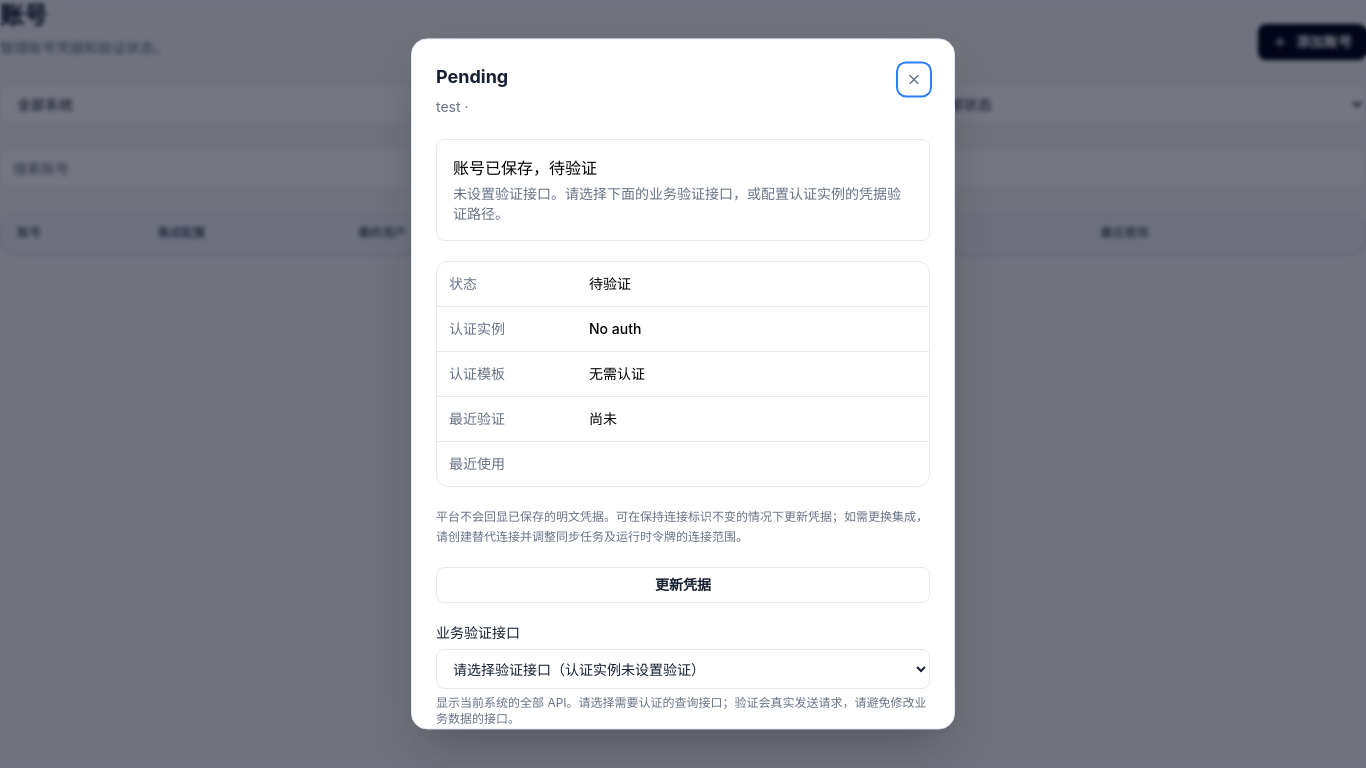
Test: keeps verification errors and successful results in the account dialog
Select "Current user · GET /me" in the dropdown labelled "业务验证接口 显示当前系统的全部 API。请选择需要认证的查询接口；验证会真实发送请求，请避免修改业务数据的接口。" at (683, 669), box [436,649,930,689]
(page scrolled)
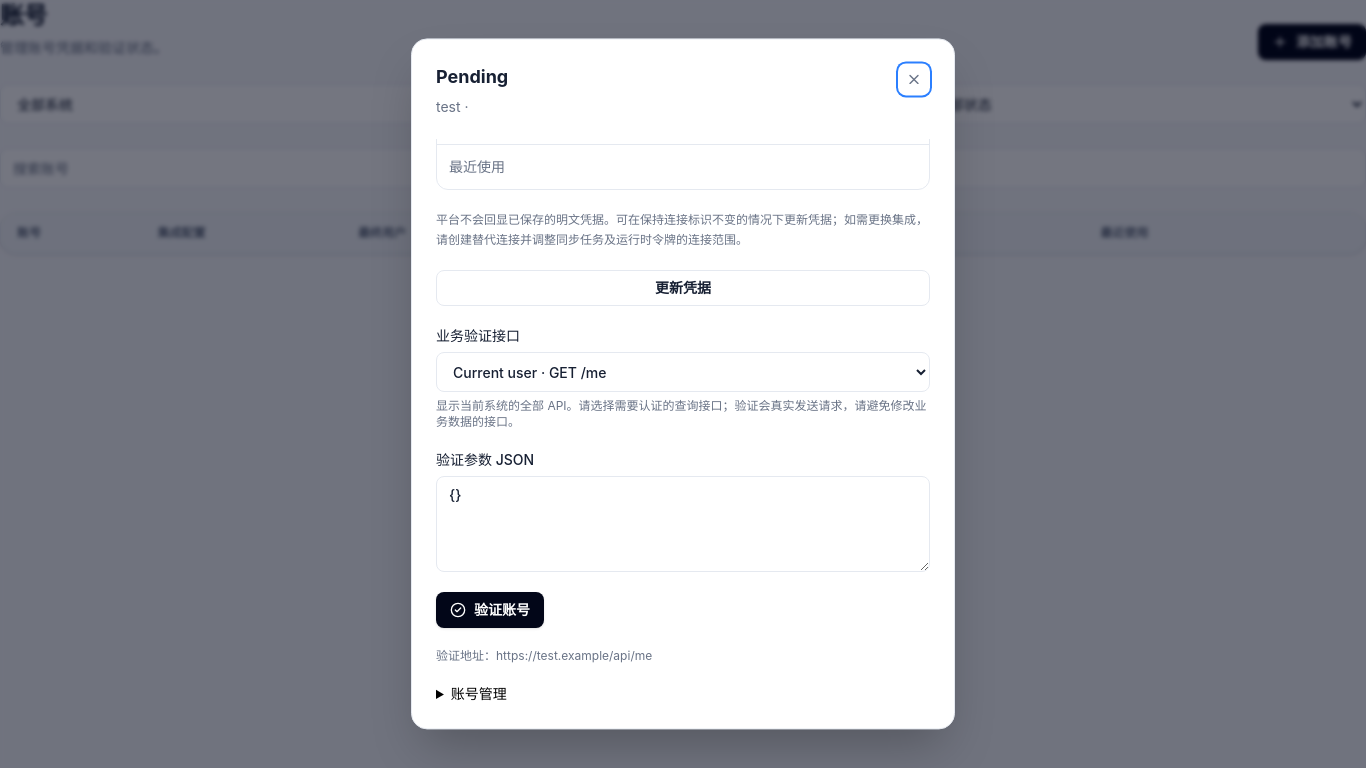
Click the button "验证账号" at (490, 610), box [436,592,544,628]
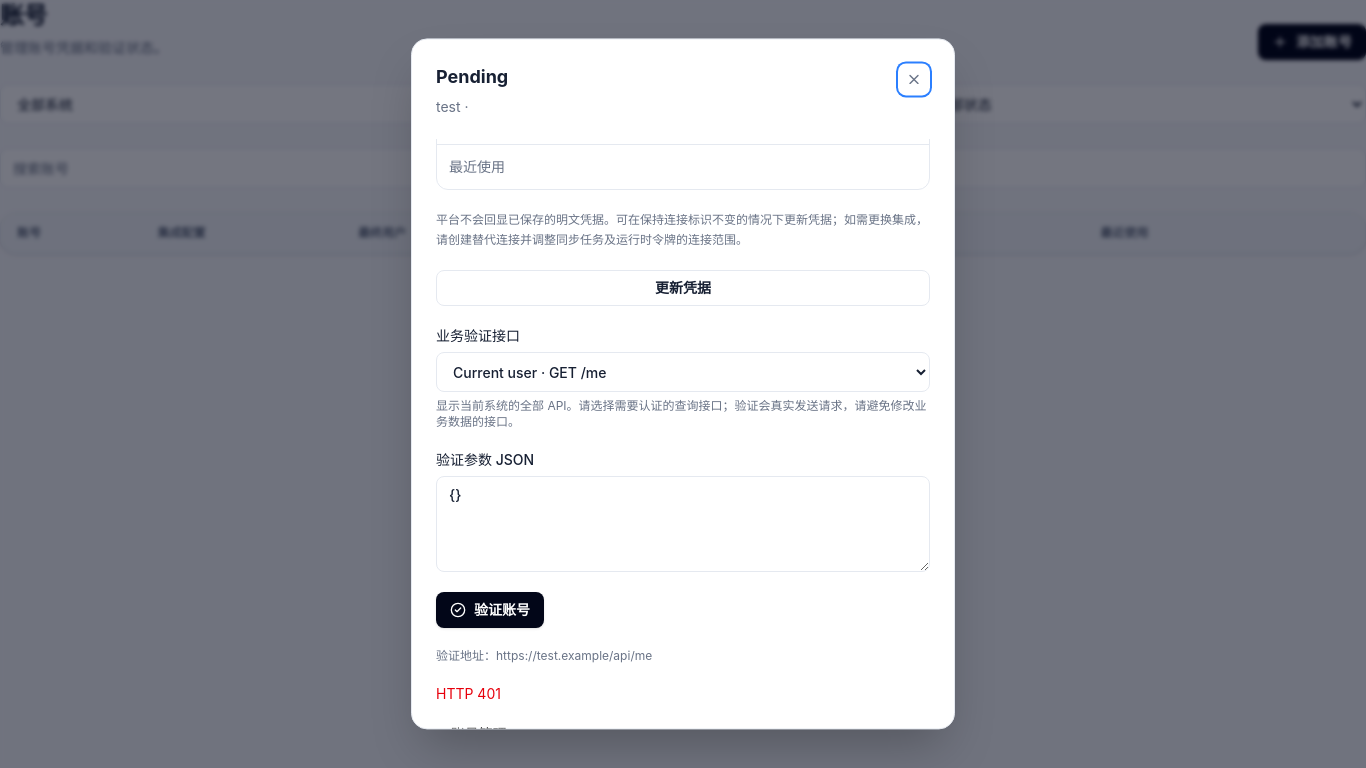
Expected: the message reads "HTTP 401", [436,685,501,702]
Click the button "验证账号" at (490, 610), box [436,592,544,628]
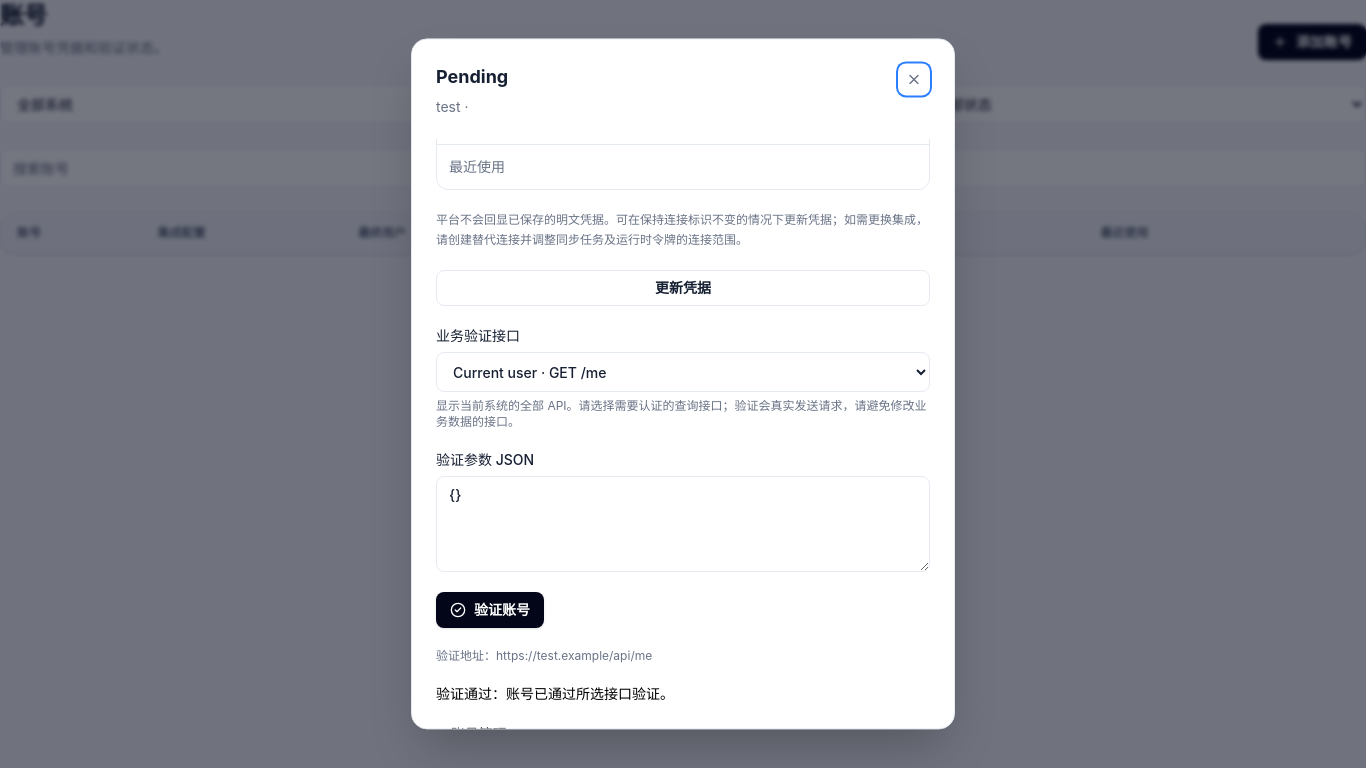
Expected: the dialog is shown, [411,38,955,730]
Expected: the message shows "验证通过", [436,685,674,702]
